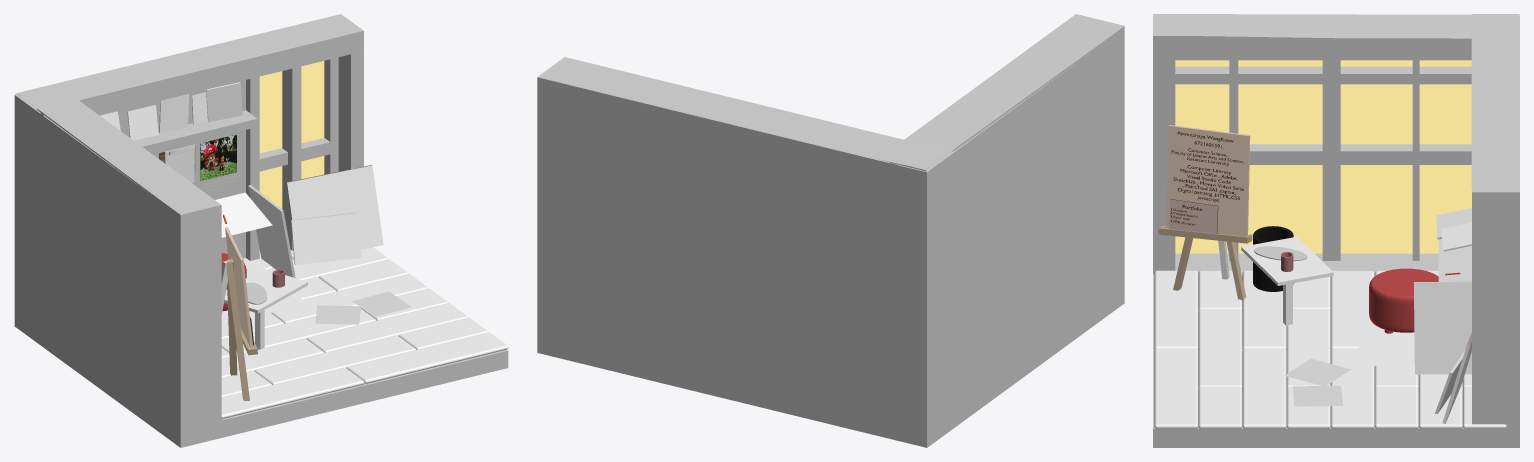
The model's file is artport.glb.
The picture shows the model from 3 angles, left to right: view 1: azimuth 30°, elevation 25°; view 2: azimuth 150°, elevation 25°; view 3: azimuth 270°, elevation 25°; orthographic projection. The views are drawn at different scales.
Parts seen in each view (by area): view 1: Cube, Plane.002, Plane.008, Plane.007, Plane.005, Plane.014, Plane.017, Plane.003, Plane.024, Plane.015, Plane.012, Plane.019 (+5 smaller); view 2: Cube; view 3: Cube, Plane.002, Plane.015, Plane.005, Cylinder, Plane.011, Plane.017, Plane.014, Plane.020, Plane.003, Plane.010, Plane.009 (+7 smaller).
Boxes of the visible parts, x1,y1,x2,y2 form: Cube: (14,14,508,447); Plane.002: (221,247,508,418); Plane.008: (286,165,383,249); Plane.007: (291,212,361,264); Plane.005: (248,185,295,277); Plane.014: (221,259,257,400); Plane.017: (224,268,307,349); Plane.003: (215,192,272,237); Plane.024: (200,134,236,180); Plane.015: (225,227,252,346); Plane.012: (206,82,242,122); Plane.019: (159,94,188,133); Cube: (537,14,1124,447); Cube: (1153,14,1519,447); Plane.002: (1154,270,1506,428); Plane.015: (1166,125,1250,236); Plane.005: (1414,281,1471,374); Cylinder: (1369,268,1438,333); Plane.011: (1358,281,1414,365); Plane.017: (1241,236,1333,326); Plane.014: (1158,225,1252,301); Plane.020: (1169,199,1218,233); Plane.003: (1438,239,1471,281); Plane.010: (1292,385,1342,406); Plane.009: (1284,358,1350,385).
Bounding box in the file's own units: 3.03 × 2.01 × 2.6.
Materials: 52 (5 with a texture image).
